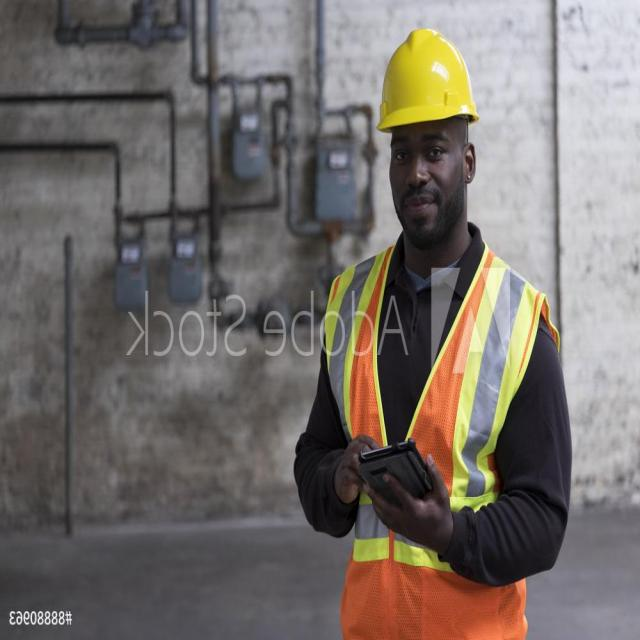Reflective-Jacket: (318, 241, 548, 627)
Safety-Helmet: (372, 23, 482, 138)
